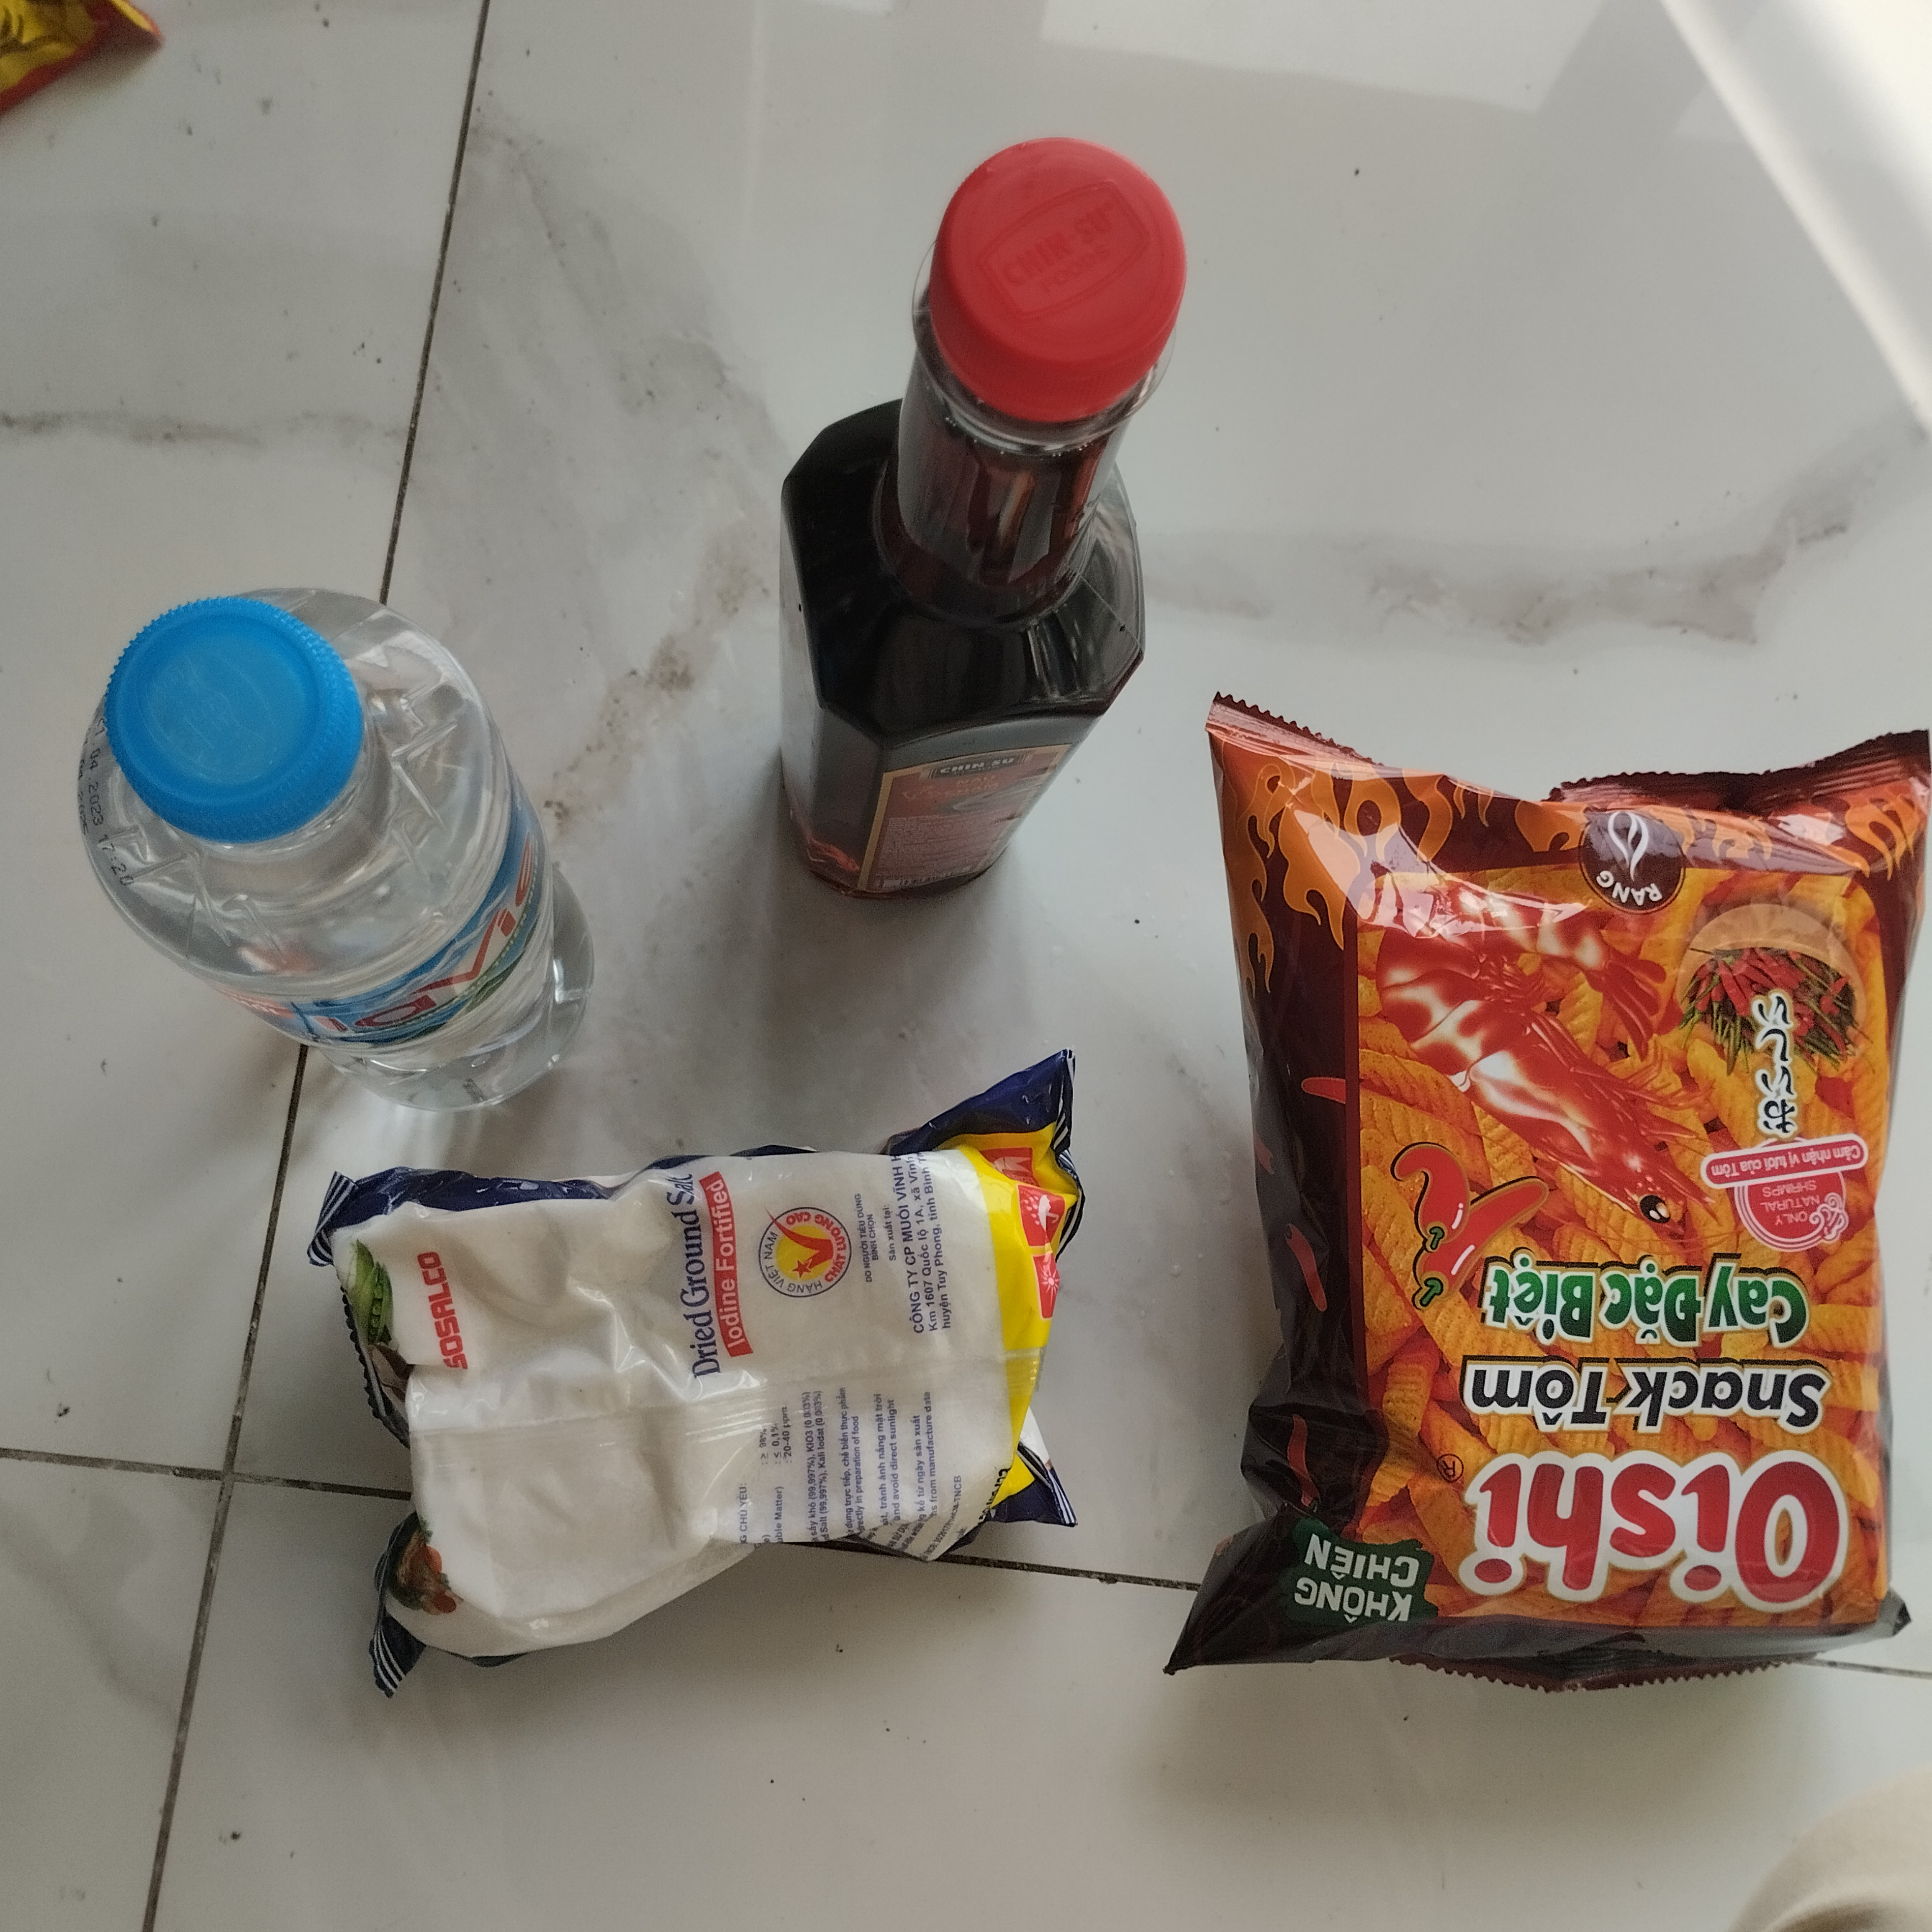Lavie: (55, 577, 616, 1134)
Namngu: (764, 113, 1187, 939)
Oishi_Cay: (1157, 685, 1932, 1714)
Salt: (280, 1053, 1104, 1698)
